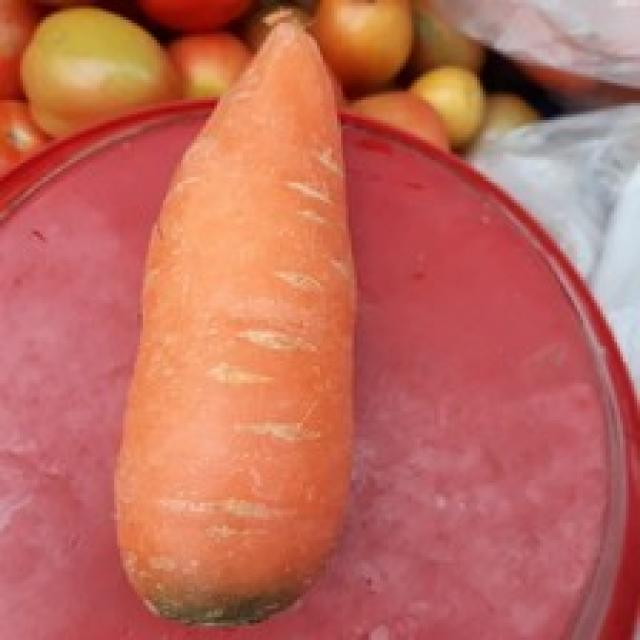Fresh_Carrot: (107, 43, 375, 627)
